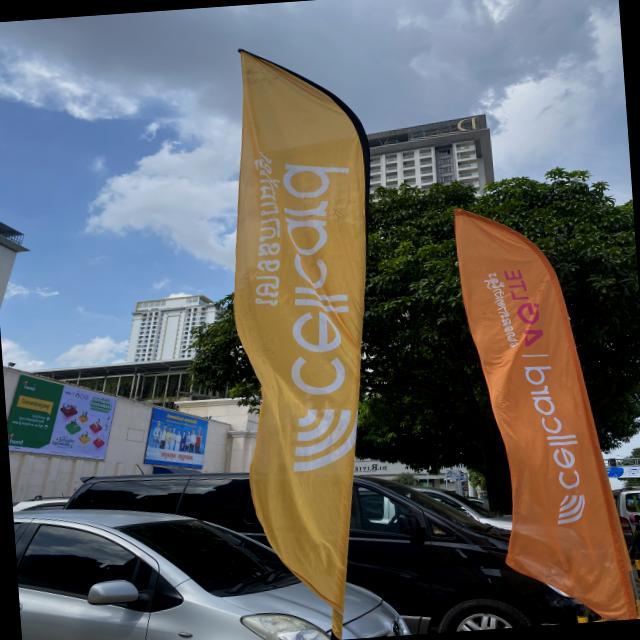1: (158, 449, 194, 461), (165, 412, 198, 424), (17, 420, 31, 426)
647: (10, 420, 18, 424)
685: (30, 423, 38, 427)
Yolov11kh: (249, 152, 281, 309), (480, 270, 523, 349), (20, 396, 52, 410), (89, 399, 113, 409), (17, 415, 46, 423), (50, 439, 70, 449), (90, 395, 111, 404), (57, 436, 75, 443), (30, 413, 46, 419), (37, 423, 45, 428)
